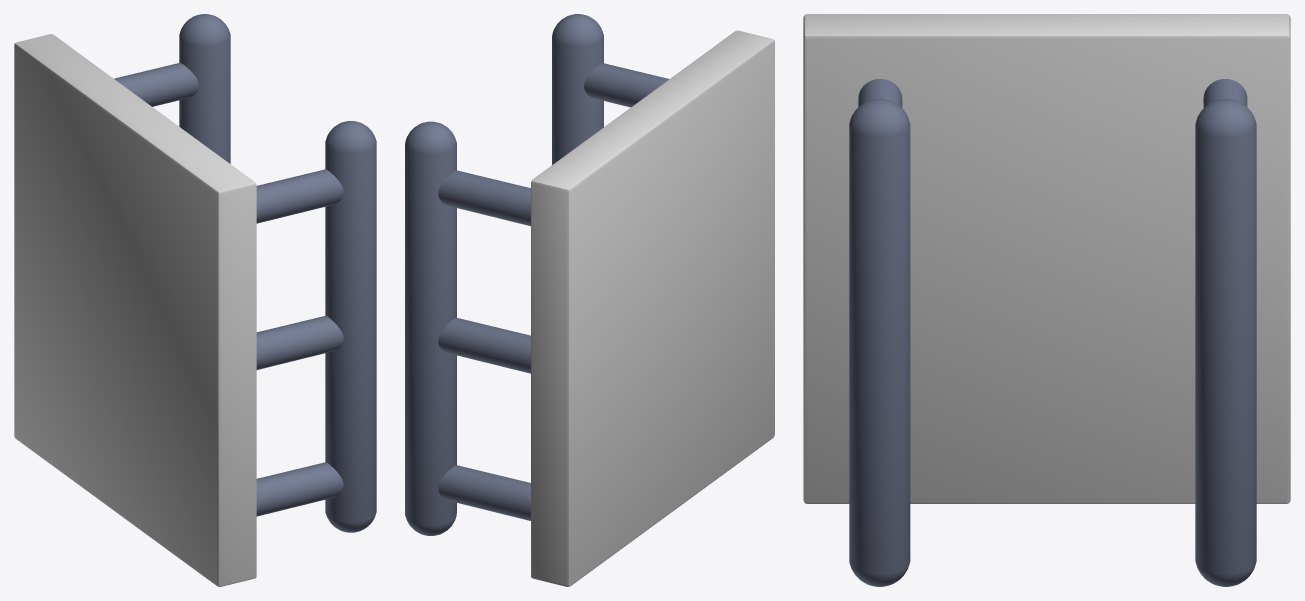
File: Bridge.fbx
3 renders of one model, left to right at view 1: azimuth 30°, elevation 25°; view 2: azimuth 150°, elevation 25°; view 3: azimuth 270°, elevation 25°, orthographic. The views are drawn at different scales.
Visible parts, largest first — view 1: Bridge; view 2: Bridge; view 3: Bridge.
Boxes of the visible parts, x1,y1,x2,y2 form: Bridge: [14, 14, 376, 586]; Bridge: [405, 14, 774, 586]; Bridge: [803, 14, 1290, 586].
Size of the model in its own units: 4.77 by 9.91 by 9.07.
